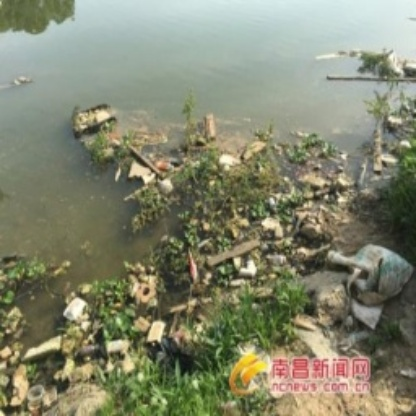branch: (320, 66, 416, 89)
plastic-bag: (328, 239, 412, 304)
